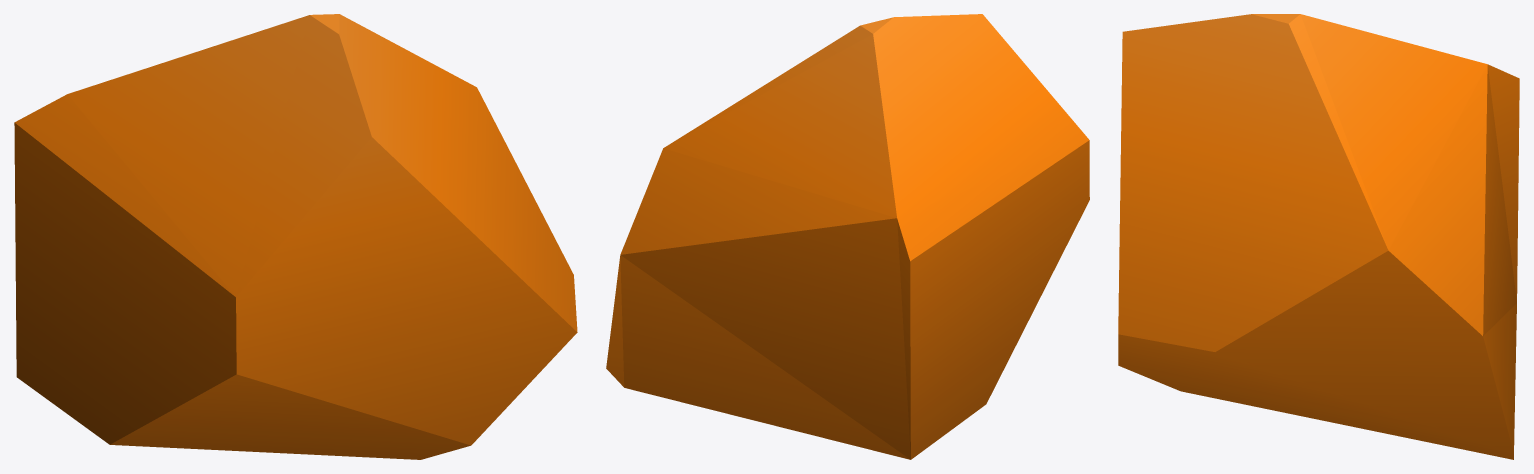
The model's file is Rock_B_03.fbx.
3 renders of one model, left to right at view 1: azimuth 30°, elevation 25°; view 2: azimuth 150°, elevation 25°; view 3: azimuth 270°, elevation 25°, orthographic. The views are drawn at different scales.
Visible parts, largest first — view 1: Rock_B_03; view 2: Rock_B_03; view 3: Rock_B_03.
Boxes of the visible parts, x1,y1,x2,y2 form: Rock_B_03: (14, 14, 577, 459); Rock_B_03: (606, 14, 1089, 459); Rock_B_03: (1118, 14, 1519, 459).
Size of the model in its own units: 57.86 by 57.78 by 57.91.
